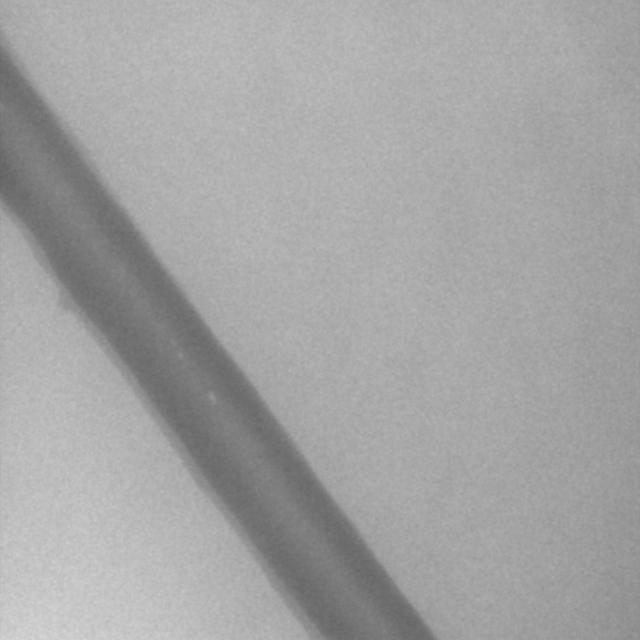air hole: (205, 388, 217, 404)
